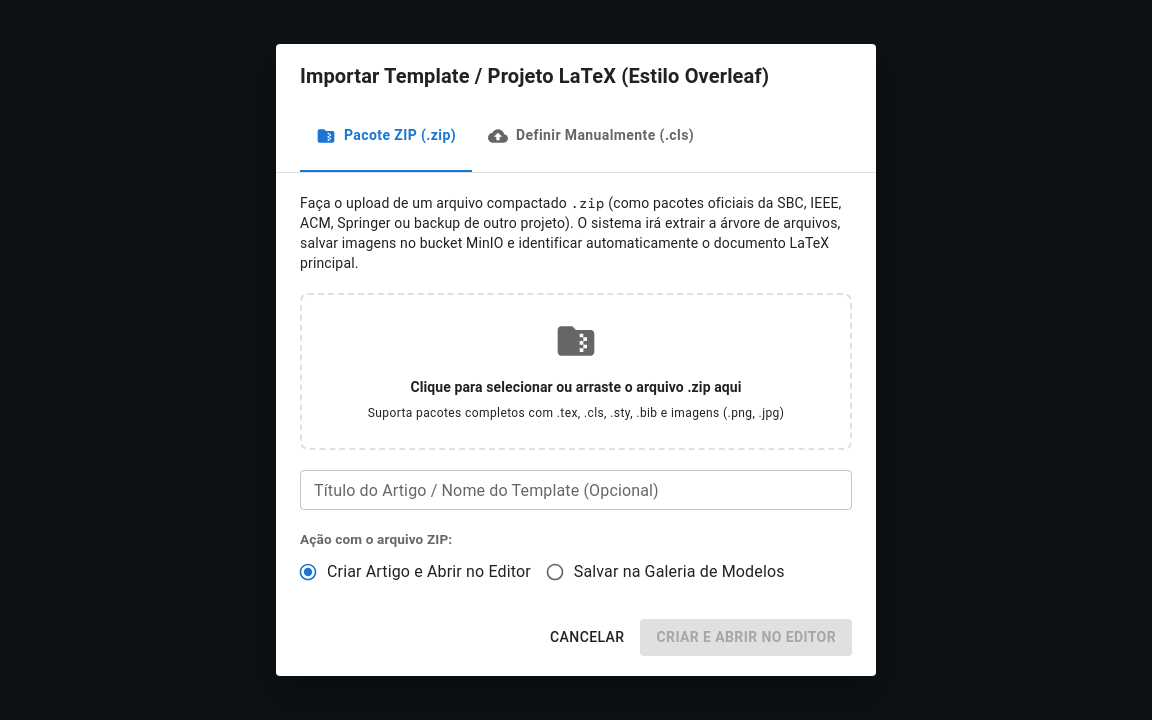
Scenario: UploadTemplateDialog Component › deve alternar para a aba manual e exibir os campos de .cls e main.tex
The image size is (1152, 720).
Click the tab "Definir Manualmente (.cls)" at [591, 136], box [472,100,710,172]
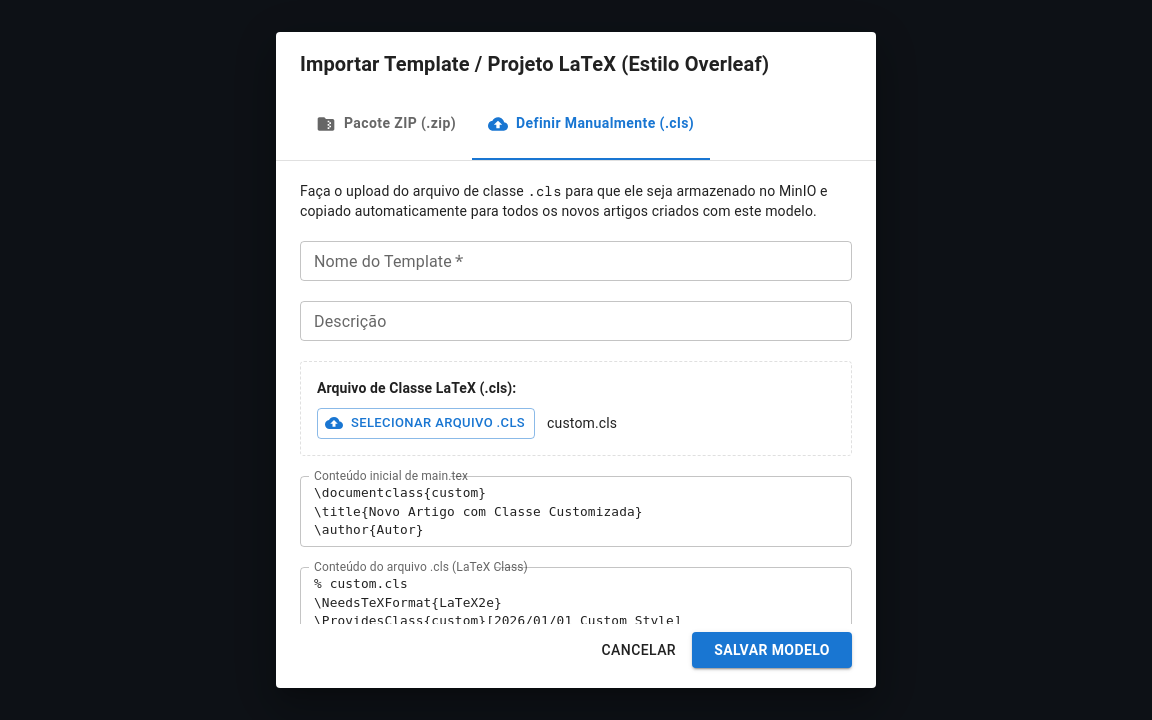
Expected: the field labelled "Nome do Template *" is shown, [300,241,852,281]
Expected: the heading "Arquivo de Classe LaTeX (.cls):" is shown, [317,380,516,396]
Expected: the text box labelled "Conteúdo inicial de main.tex" is shown, [314,484,838,538]
